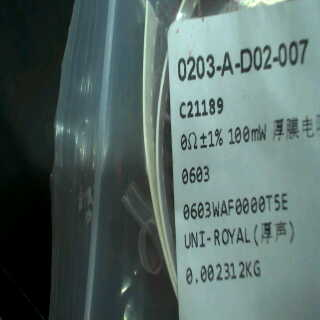0R: (174, 119, 269, 193)
